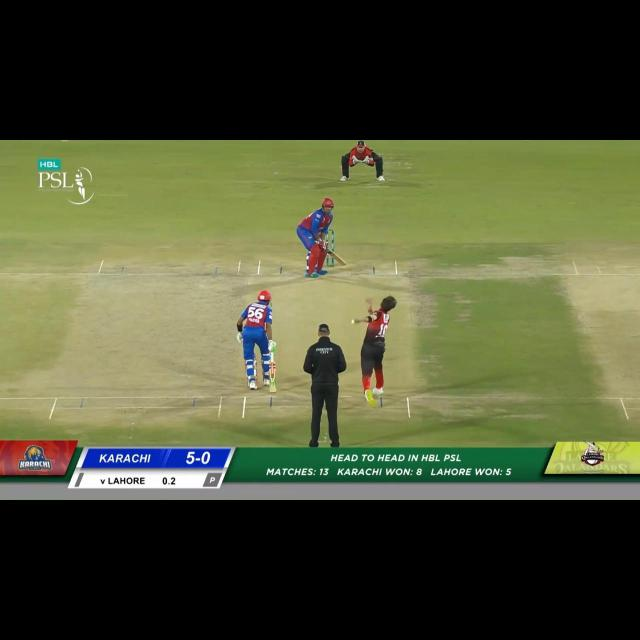bat: (323, 248, 347, 266), (267, 362, 278, 394)
toe: (266, 386, 278, 394), (339, 258, 347, 267)
